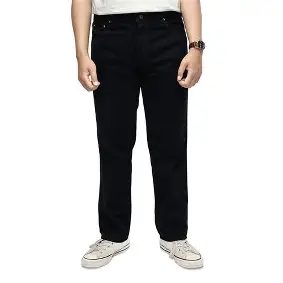celana_benar: (94, 17, 184, 236)
